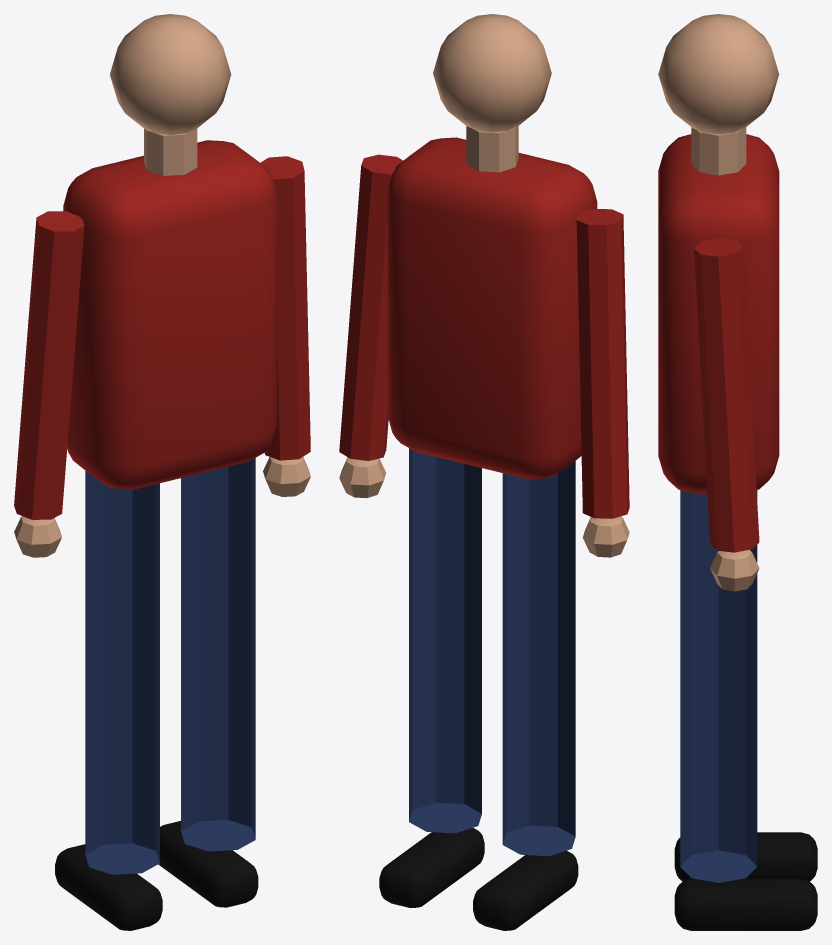
The model's file is people.public.child.glb.
3 views of the same model, side by side, from view 1: azimuth 30°, elevation 25°; view 2: azimuth 150°, elevation 25°; view 3: azimuth 270°, elevation 25° (orthographic). The views are drawn at different scales.
Parts seen in each view (by area): view 1: main__fabric_red, main__denim, main__skin, main__plastic_black; view 2: main__fabric_red, main__denim, main__skin, main__plastic_black; view 3: main__fabric_red, main__denim, main__skin, main__plastic_black.
Boxes of the visible parts, bbox=[...] form: main__fabric_red: bbox=[14, 140, 310, 519]; main__denim: bbox=[85, 458, 255, 874]; main__skin: bbox=[14, 14, 310, 557]; main__plastic_black: bbox=[55, 821, 258, 930]; main__fabric_red: bbox=[339, 137, 629, 518]; main__denim: bbox=[409, 448, 575, 856]; main__skin: bbox=[339, 14, 629, 557]; main__plastic_black: bbox=[379, 828, 578, 930]; main__fabric_red: bbox=[658, 134, 779, 552]; main__denim: bbox=[680, 490, 757, 882]; main__skin: bbox=[658, 14, 779, 591]; main__plastic_black: bbox=[674, 832, 817, 930].
Size of the model in its own units: 0.4183 by 1.21 by 0.1989.
